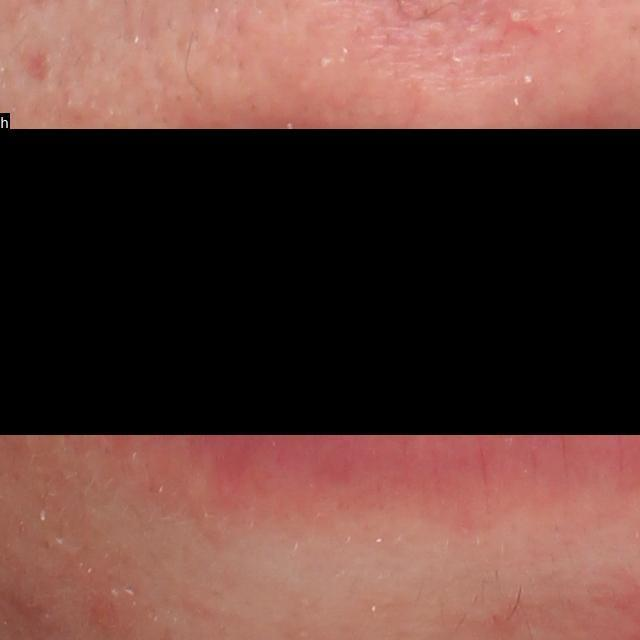atrophic_scar: (24, 52, 52, 83)
